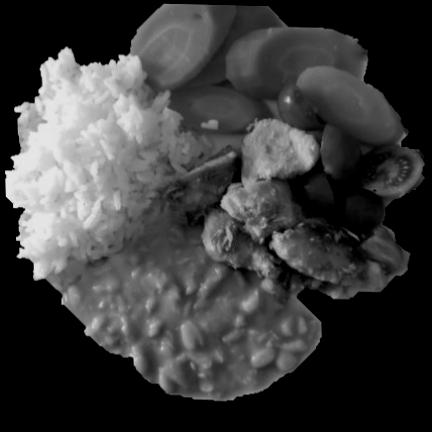beans: (60, 225, 324, 404)
carrot: (127, 4, 407, 137)
chicken: (159, 123, 402, 300)
rice: (5, 50, 232, 297)
tomato: (293, 135, 428, 277)
